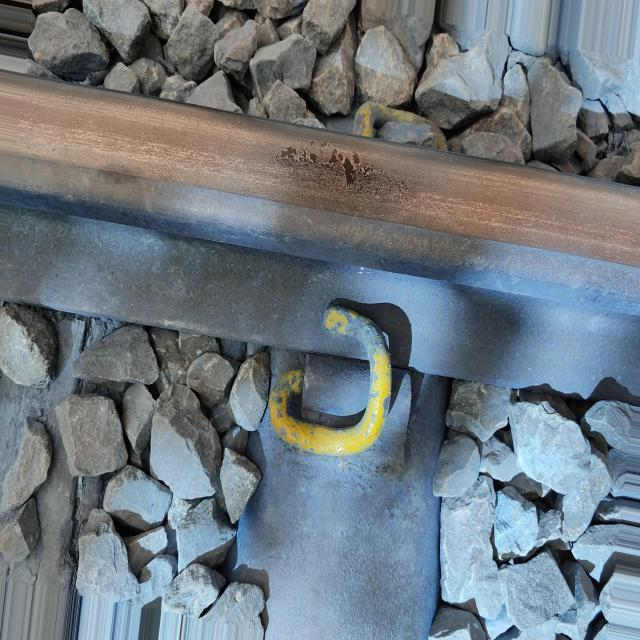Good Fasteners: (262, 278, 434, 483), (326, 101, 448, 151)
